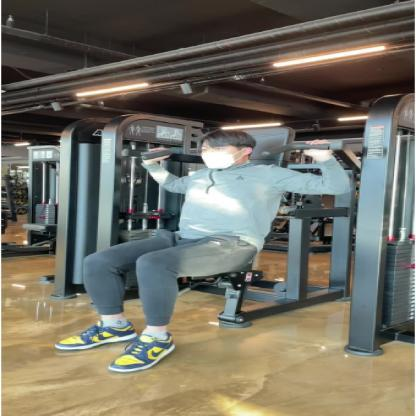shoulder press machine: (19, 91, 416, 416)
